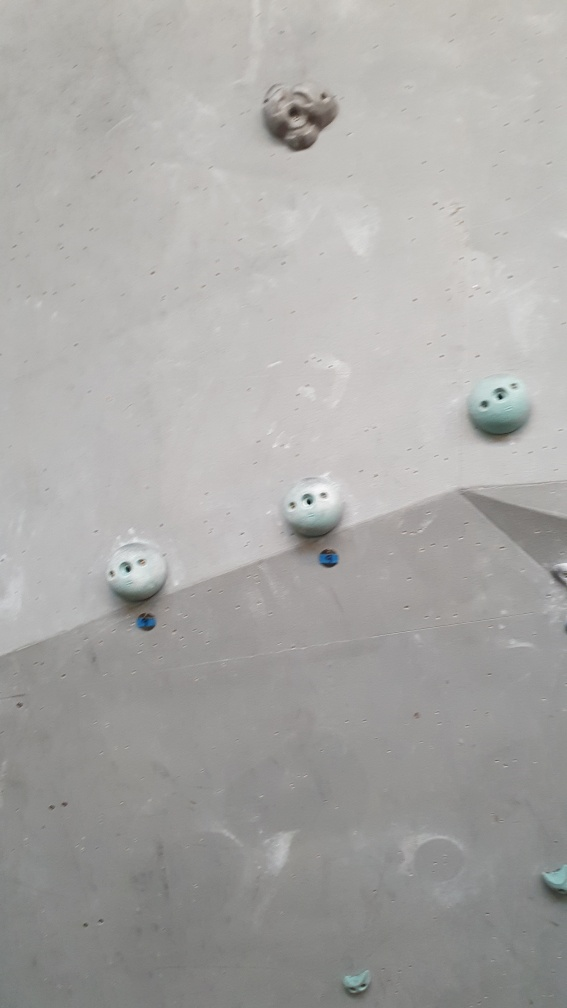Hand Start: (315, 547, 341, 570), (134, 610, 157, 636)
Jug: (262, 80, 343, 154)
Sloper: (467, 371, 535, 439), (281, 475, 346, 541), (108, 541, 170, 605)
